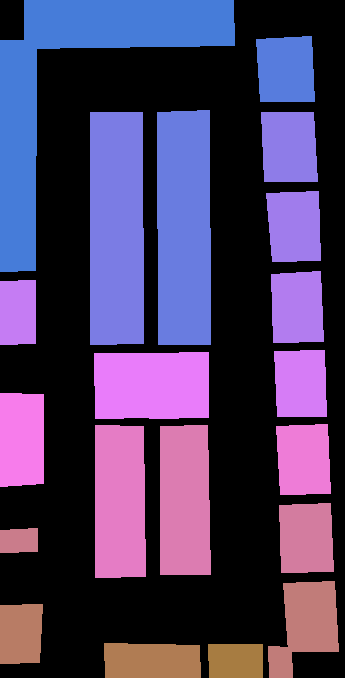parkingspot: (157, 110, 210, 344), (90, 112, 143, 344), (24, 0, 234, 48), (0, 39, 36, 271), (95, 425, 145, 577), (160, 425, 210, 574), (0, 393, 43, 486), (149, 352, 208, 418), (261, 112, 317, 181), (283, 581, 338, 651), (266, 191, 320, 261), (276, 424, 330, 494), (256, 36, 314, 101), (94, 353, 152, 418), (279, 503, 333, 572), (271, 271, 323, 342), (274, 350, 326, 416), (104, 643, 200, 678), (0, 604, 42, 663), (0, 280, 35, 344), (208, 644, 262, 678), (0, 528, 37, 552), (268, 646, 292, 678)
